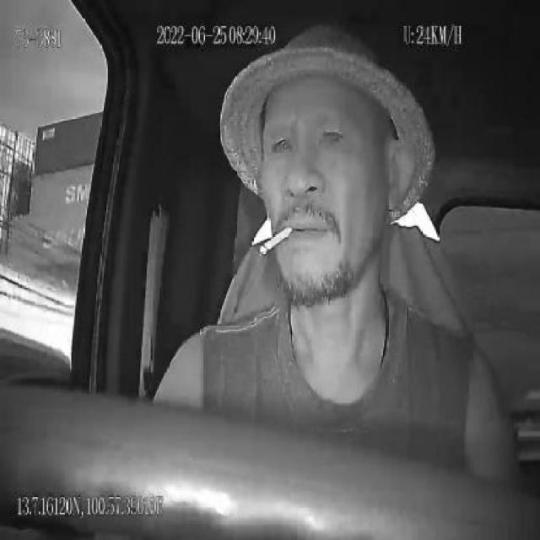smoking: (259, 224, 294, 259)
